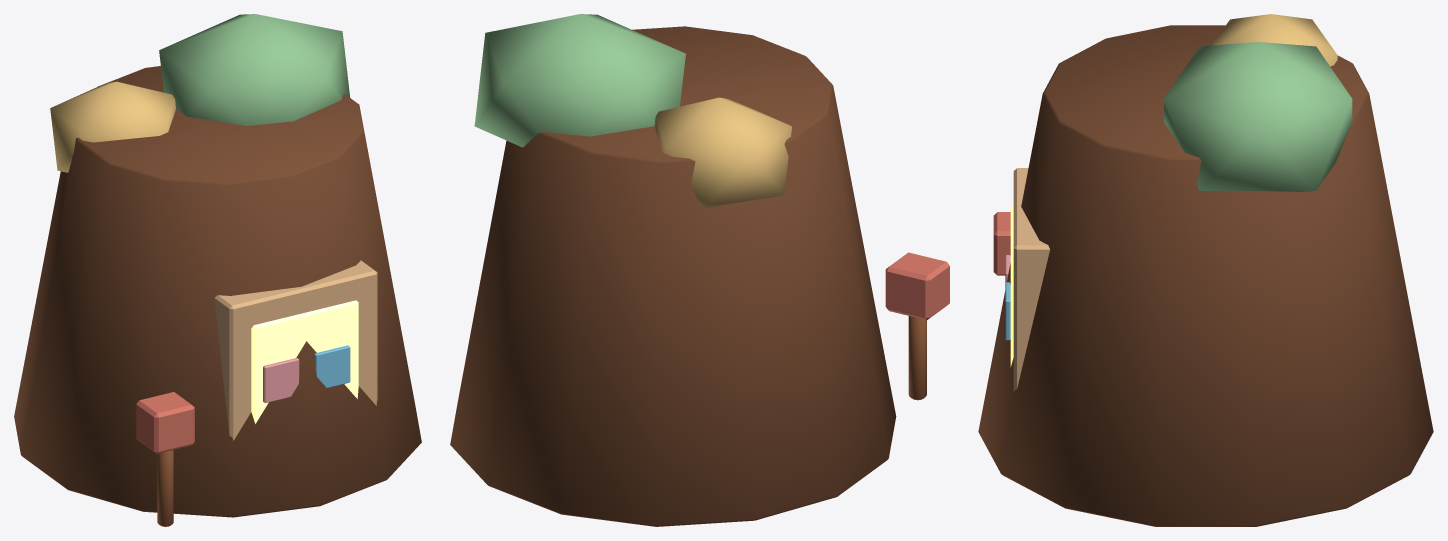
The model's file is F36-tree-hollow-postbox.glb.
3 renders of one model, left to right at view 1: azimuth 30°, elevation 25°; view 2: azimuth 150°, elevation 25°; view 3: azimuth 270°, elevation 25°, orthographic. The views are drawn at different scales.
Visible parts, largest first — view 1: Stump_Body, Stump_Top_Crown, Hollow_Trim, Stump_Top_B, Hollow_Glow, Secret_Box, Photo_Card, Photo_Card.001, Secret_Box_Leg; view 2: Stump_Body, Stump_Top_Crown, Stump_Top_B, Secret_Box, Secret_Box_Leg; view 3: Stump_Body, Stump_Top_Crown, Hollow_Trim, Stump_Top_B, Secret_Box, Hollow_Glow.
Part boxes in pixels (x1,y1,x2,y2): Stump_Body: [14, 66, 421, 517]; Stump_Top_Crown: [159, 14, 350, 125]; Hollow_Trim: [214, 260, 377, 440]; Stump_Top_B: [50, 81, 175, 172]; Hollow_Glow: [251, 300, 358, 423]; Secret_Box: [136, 392, 194, 453]; Photo_Card: [263, 358, 299, 403]; Photo_Card.001: [314, 345, 350, 387]; Secret_Box_Leg: [157, 450, 173, 526]; Stump_Body: [450, 26, 896, 526]; Stump_Top_Crown: [474, 14, 685, 147]; Stump_Top_B: [654, 97, 791, 207]; Secret_Box: [885, 252, 949, 320]; Secret_Box_Leg: [908, 316, 926, 400]; Stump_Body: [978, 25, 1433, 526]; Stump_Top_Crown: [1164, 42, 1352, 192]; Hollow_Trim: [1013, 168, 1049, 392]; Stump_Top_B: [1211, 14, 1337, 66]; Secret_Box: [993, 212, 1010, 275]; Hollow_Glow: [1010, 205, 1013, 366].
Bounding box in the file's own units: 3.41 × 3.6 × 3.49.
